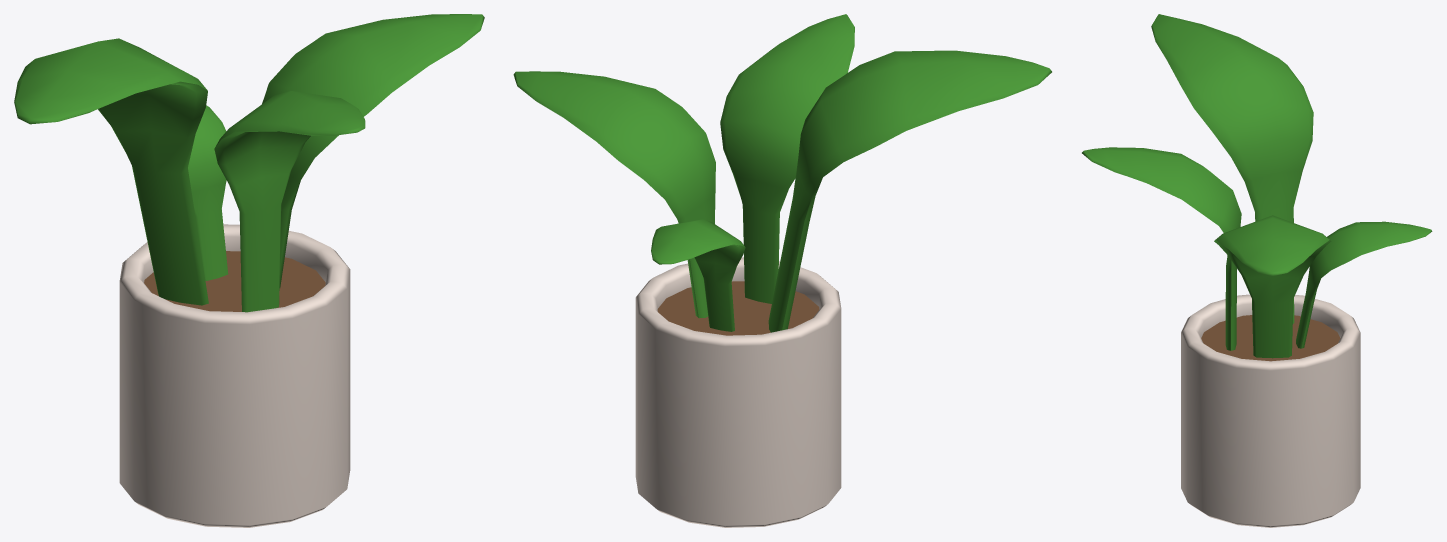
File: Plant_4.glb
3 views of the same model, side by side, from view 1: azimuth 30°, elevation 25°; view 2: azimuth 150°, elevation 25°; view 3: azimuth 270°, elevation 25° (orthographic). The views are drawn at different scales.
Parts seen in each view (by area): view 1: Plant_4; view 2: Plant_4; view 3: Plant_4.
Part boxes in pixels (<box>): Plant_4: <box>14,14,484,527</box>; Plant_4: <box>513,14,1051,527</box>; Plant_4: <box>1082,14,1432,527</box>.
Size of the model in its own units: 0.3999 by 0.358 by 0.2971.
1 material, 1 textured.
